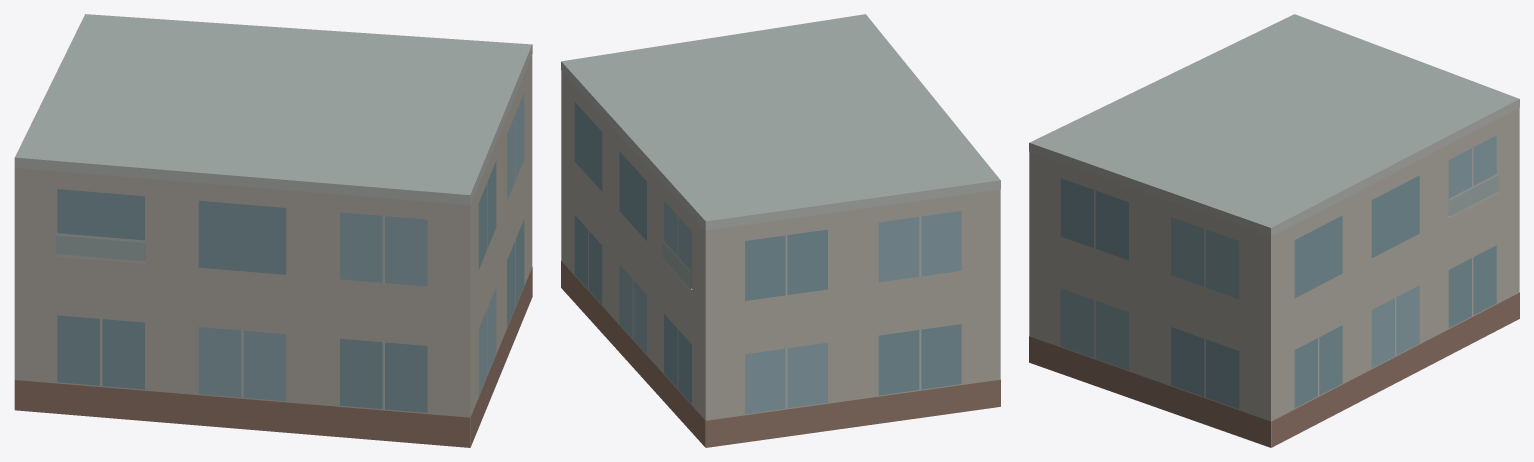
File: survey-upis-32670432.glb
3 renders of one model, left to right at view 1: azimuth 30°, elevation 25°; view 2: azimuth 150°, elevation 25°; view 3: azimuth 270°, elevation 25°, orthographic. The views are drawn at different scales.
Parts seen in each view (by area): view 1: survey-upis-32670432.tmp; view 2: survey-upis-32670432.tmp; view 3: survey-upis-32670432.tmp.
Boxes of the visible parts, x1=… form: survey-upis-32670432.tmp: x1=14, y1=14, x2=532, y2=447; survey-upis-32670432.tmp: x1=561, y1=14, x2=1000, y2=447; survey-upis-32670432.tmp: x1=1029, y1=14, x2=1519, y2=447.
Bounding box in the file's own units: 12.74 × 6.1 × 12.34.
